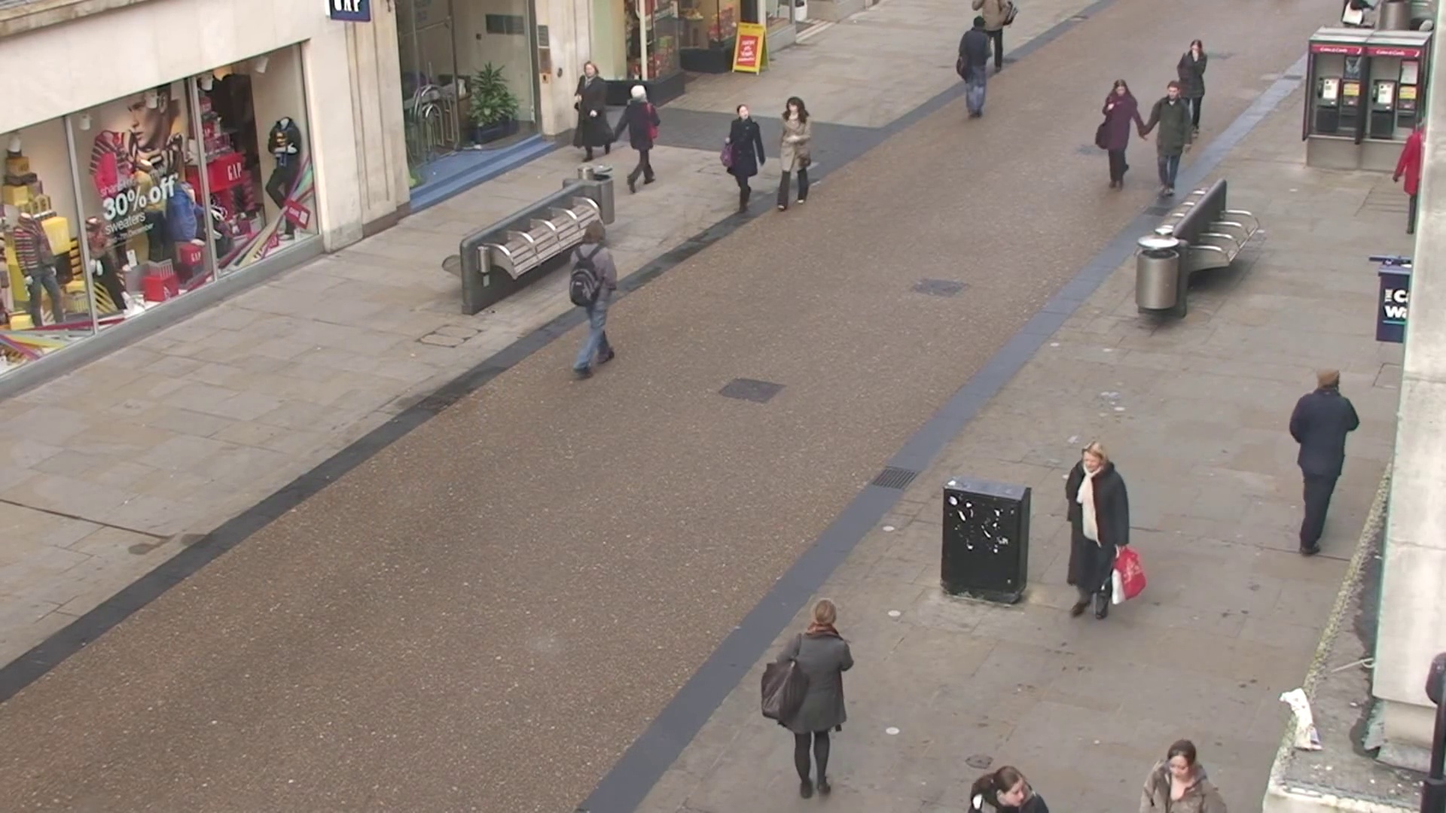person: (766, 598, 855, 799), (1289, 367, 1361, 558), (1066, 443, 1130, 620), (566, 218, 620, 378), (1387, 113, 1446, 254), (1142, 738, 1229, 813), (1093, 78, 1142, 191), (1149, 81, 1197, 196), (264, 117, 306, 236), (722, 101, 766, 212), (954, 12, 999, 120), (775, 96, 815, 209), (621, 84, 660, 191), (967, 763, 1048, 813), (574, 59, 609, 163), (1176, 38, 1208, 131)
